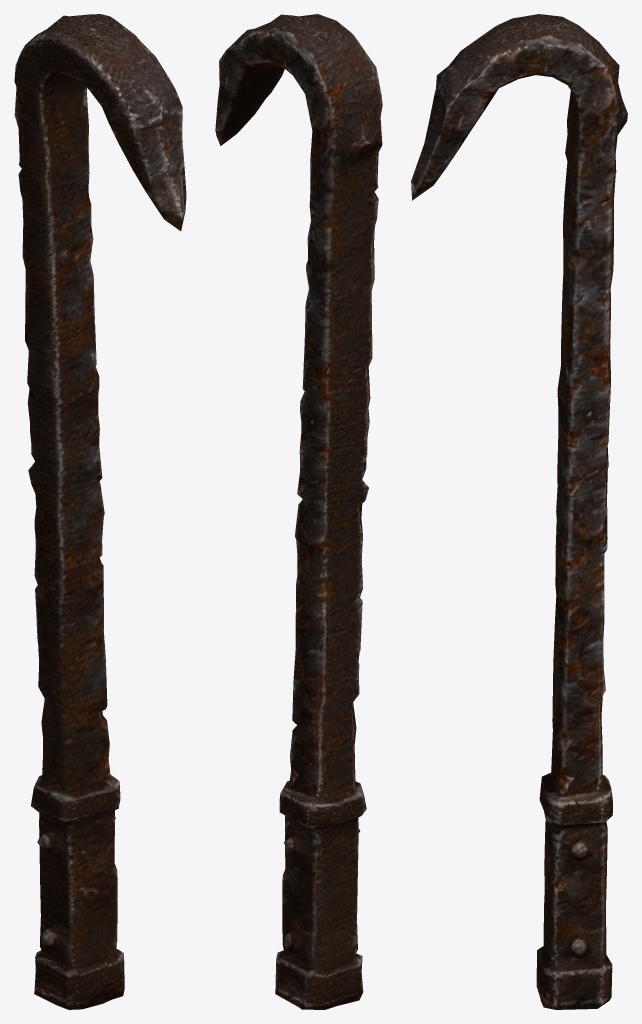
Rendered from bar.glb.
3 views of the same model, side by side, from view 1: azimuth 30°, elevation 25°; view 2: azimuth 210°, elevation 25°; view 3: azimuth 270°, elevation 25° (orthographic). The views are drawn at different scales.
Visible parts, largest first — view 1: bar; view 2: bar; view 3: bar.
Boxes of the visible parts, x1,y1,x2,y2 form: bar: [14, 14, 186, 1009]; bar: [215, 14, 382, 1009]; bar: [411, 14, 627, 1009].
Bounding box in the file's own units: 0.1622 × 1.7 × 0.3443.
1 material, 1 textured.
